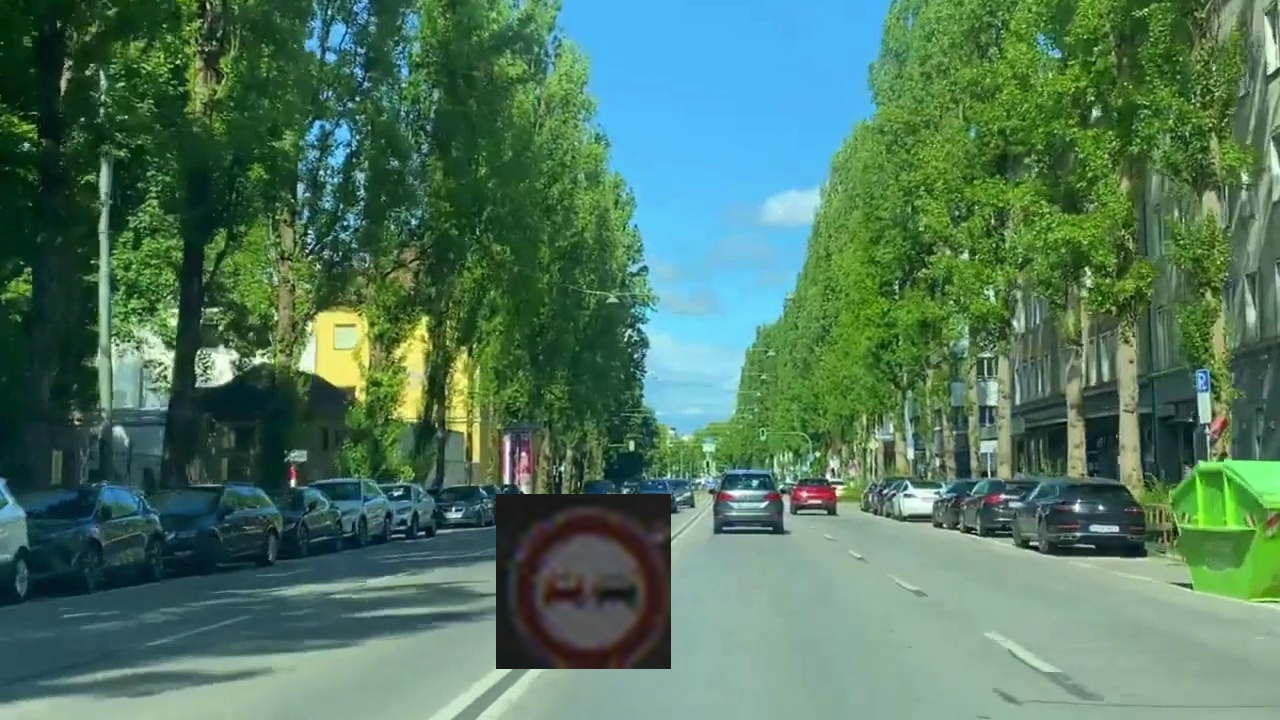No passing: (496, 494, 671, 669)
